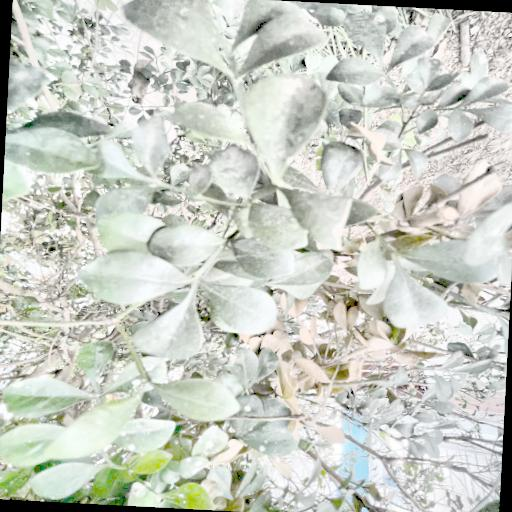la heo: (257, 328, 411, 449)
la xanh: (86, 28, 354, 330)
